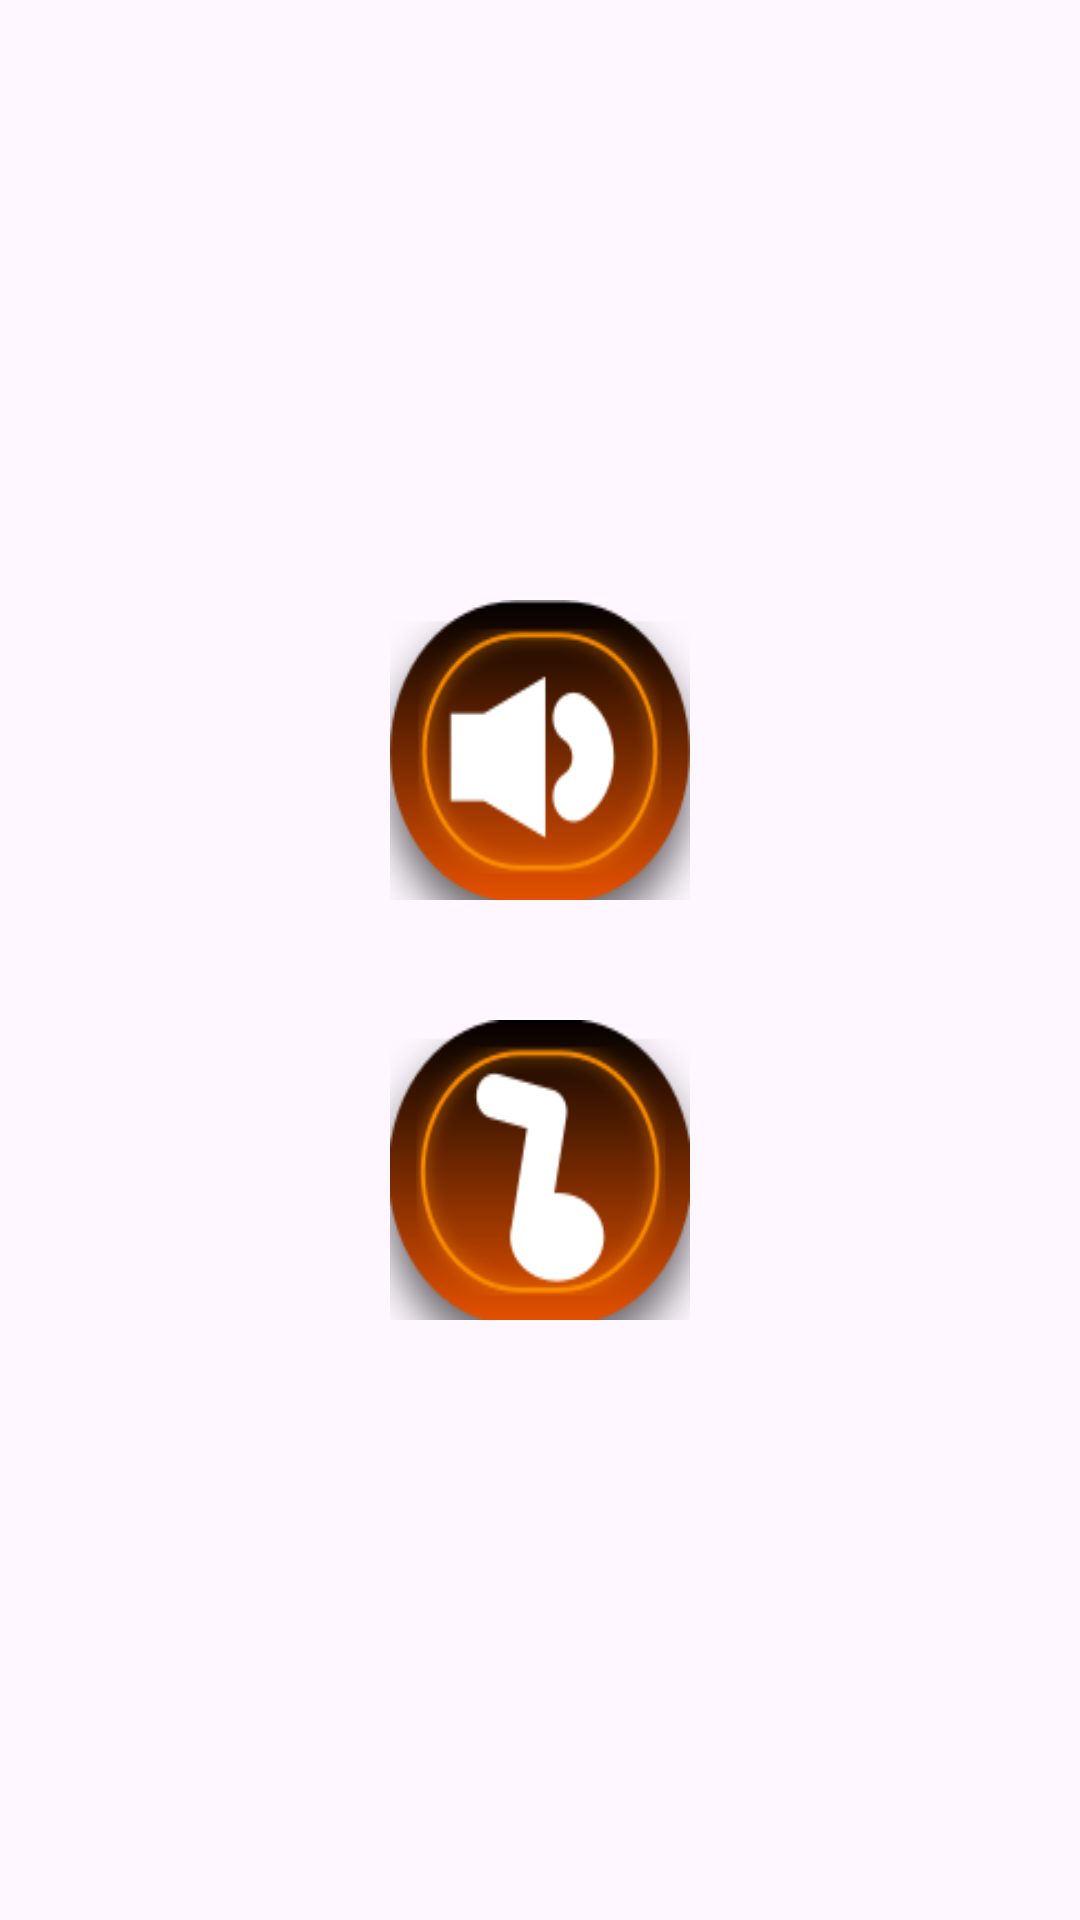

Named icons in this screenshot (1080px×1920px) and their centers, (x,y):
Music button: (540,1170)
Sound button: (540,750)
